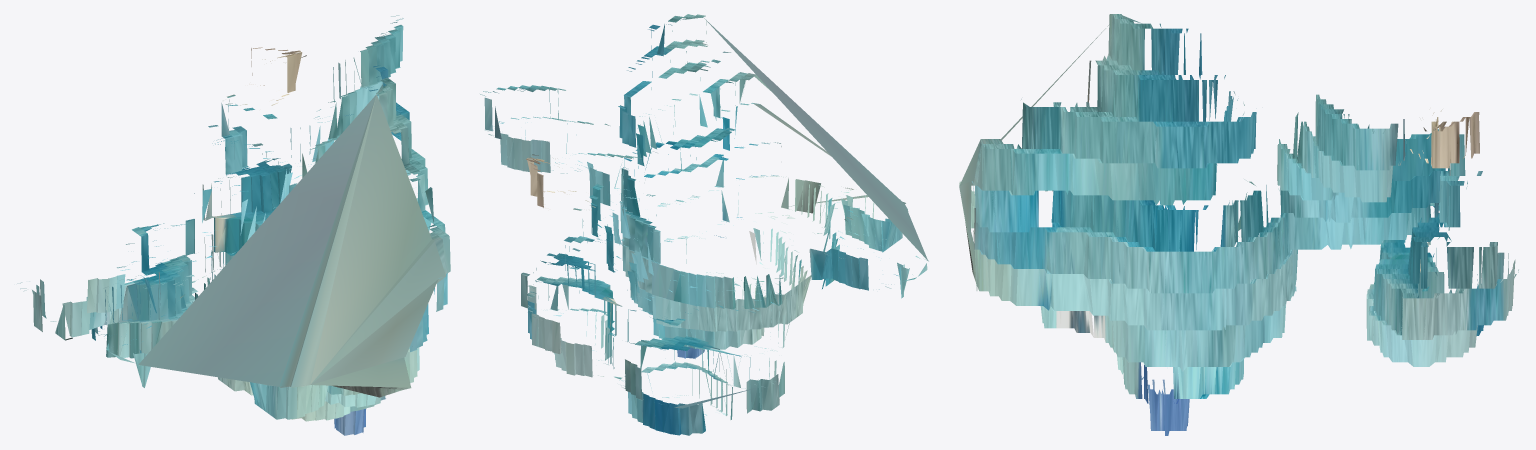
File: Malla_con_textura_MARIASALGADO.glb
The picture shows the model from 3 angles, left to right: view 1: azimuth 30°, elevation 25°; view 2: azimuth 150°, elevation 25°; view 3: azimuth 270°, elevation 25°; orthographic projection. The views are drawn at different scales.
Size of the model in its own units: 1.44 by 1.25 by 1.53.
Materials: 1 (1 with a texture image).
